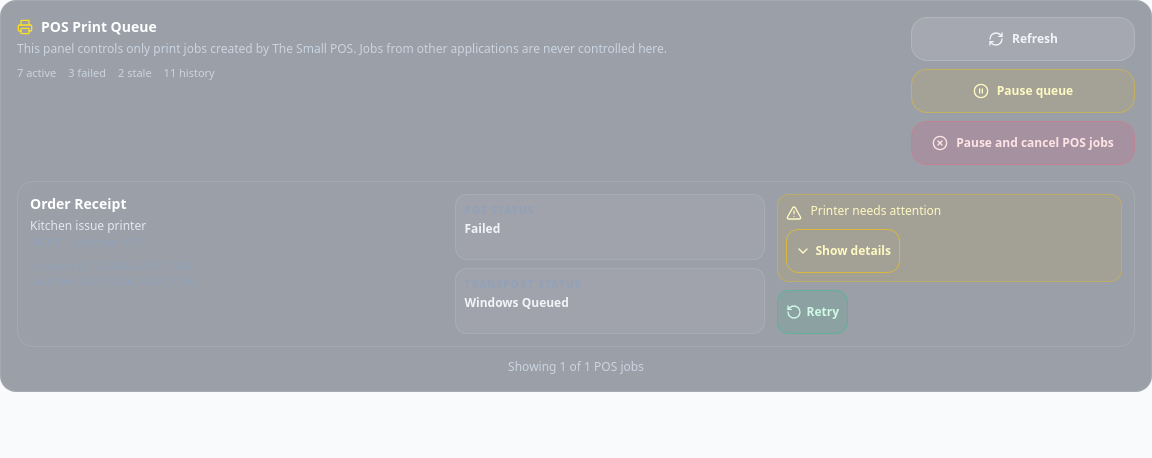
PrintQueuePanel managed POS controls › shows independent global counts and expands then collapses bounded issue details
This screenshot has width=1152, height=458.
expect the message named "POS print queue counts" shows "7 active": met, box [17, 65, 56, 80]
expect the message named "POS print queue counts" shows "3 failed": met, box [68, 65, 106, 80]
What coordinates should you click on to do the following:
click the button with aria-label "Show issue details"
I would click on:
 (843, 251)
Its box is [786, 229, 900, 273].
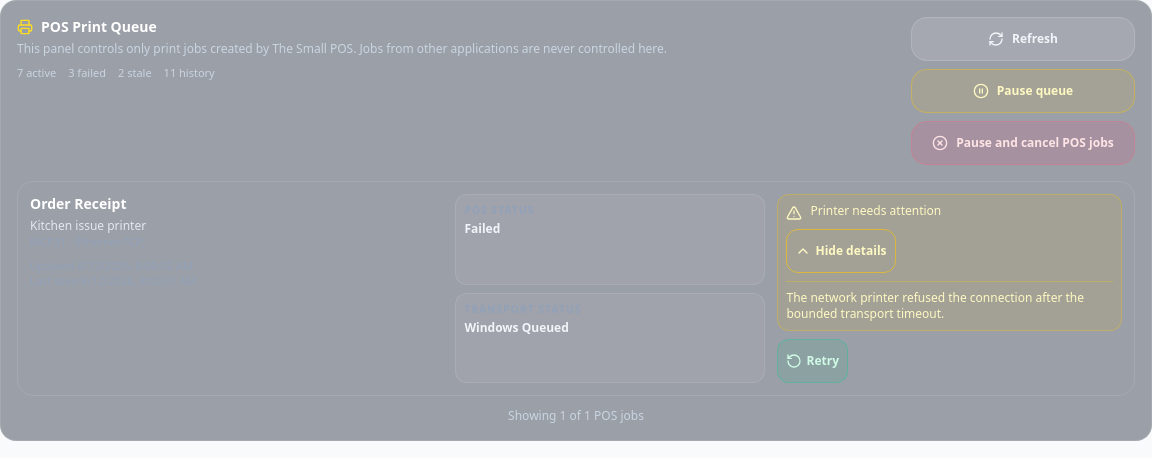
expect the button with aria-label "Hide issue details" is expanded: met
What coordinates should you click on to do the following:
click the button with aria-label "Hide issue details"
I would click on:
 (841, 251)
Its box is [786, 229, 896, 273].
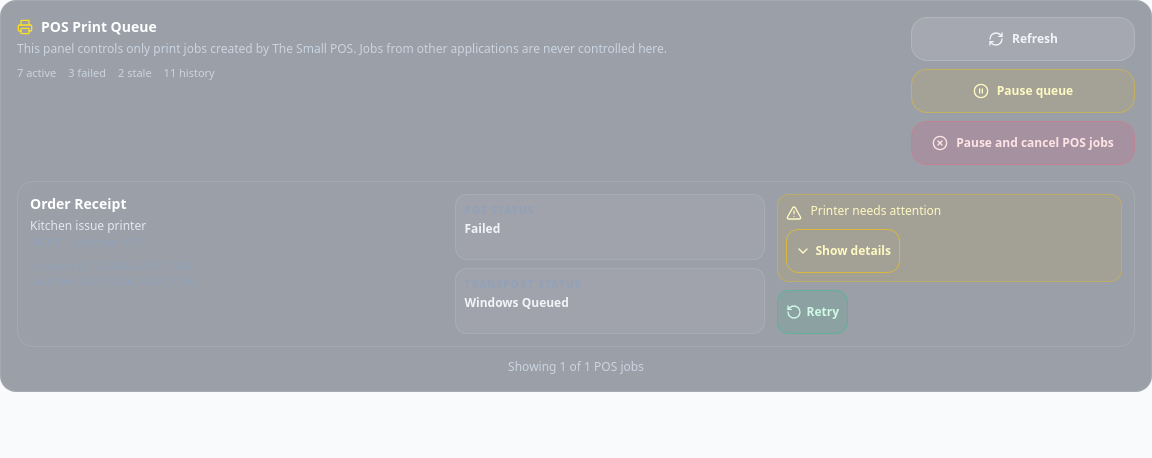
expect the text "The network printer refused the connection after the bounded transport timeout." is gone: met
